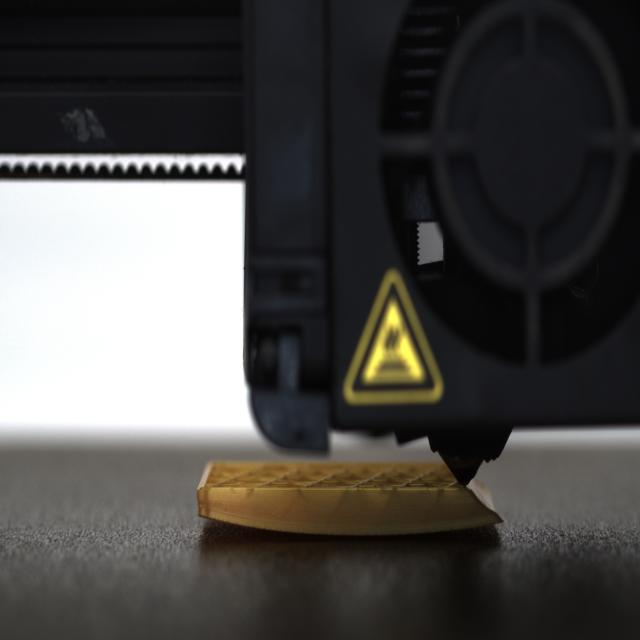Warping: (193, 504, 297, 541)
